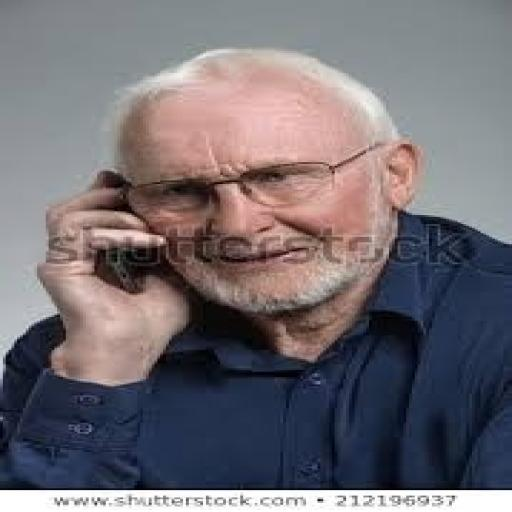calling: (0, 46, 509, 490)
